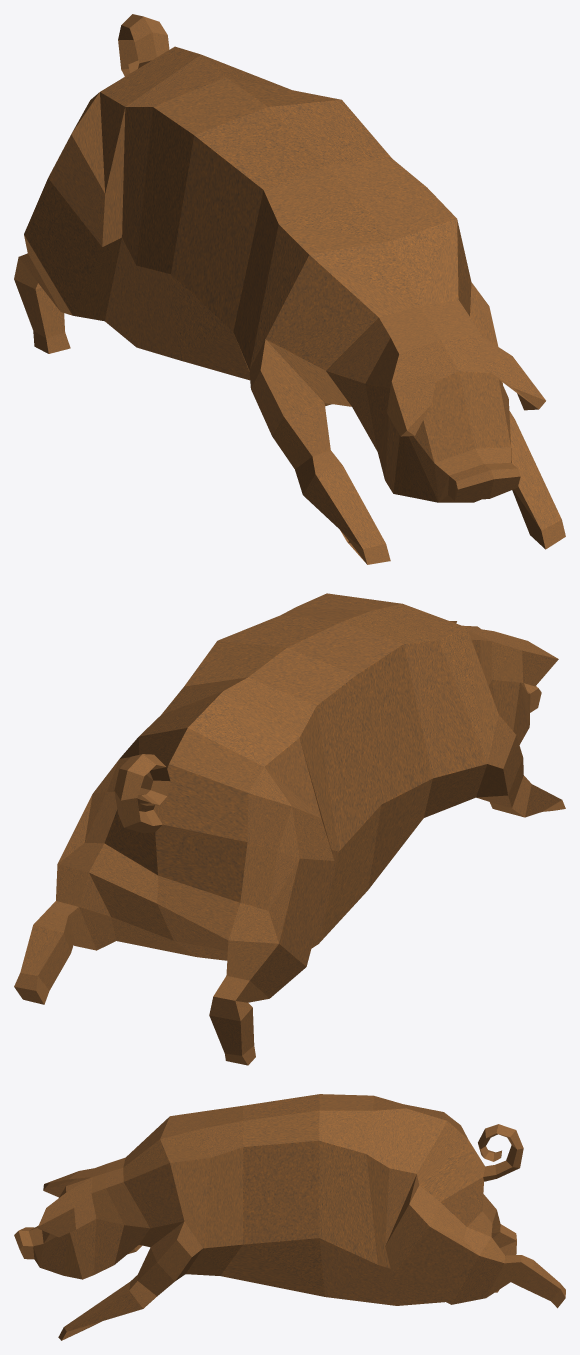
The model's file is Pig_000014.obj.
3 renders of one model, top to bottom at view 1: azimuth 30°, elevation 25°; view 2: azimuth 150°, elevation 25°; view 3: azimuth 270°, elevation 25°, orthographic. The views are drawn at different scales.
Parts seen in each view (by area): view 1: Pig_Cylinder; view 2: Pig_Cylinder; view 3: Pig_Cylinder.
Part boxes in pixels (x1=…): Pig_Cylinder: x1=14, y1=14, x2=565, y2=564; Pig_Cylinder: x1=14, y1=593, x2=565, y2=1065; Pig_Cylinder: x1=14, y1=1094, x2=565, y2=1340.
Bounding box in the file's own units: 3.41 × 4.27 × 10.29.
1 material, 1 textured.
